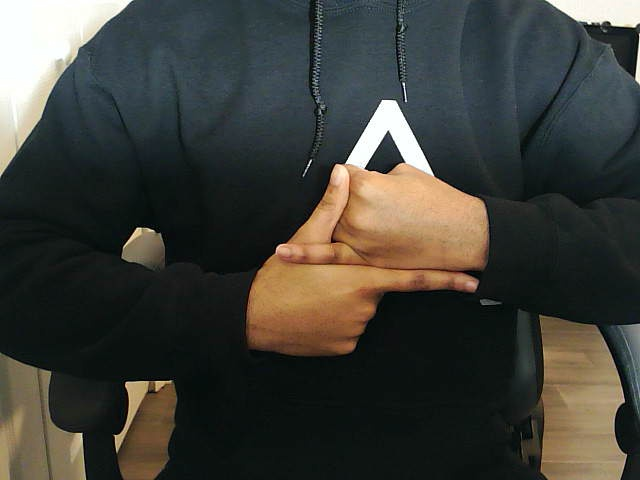Hare: (249, 163, 478, 358)
